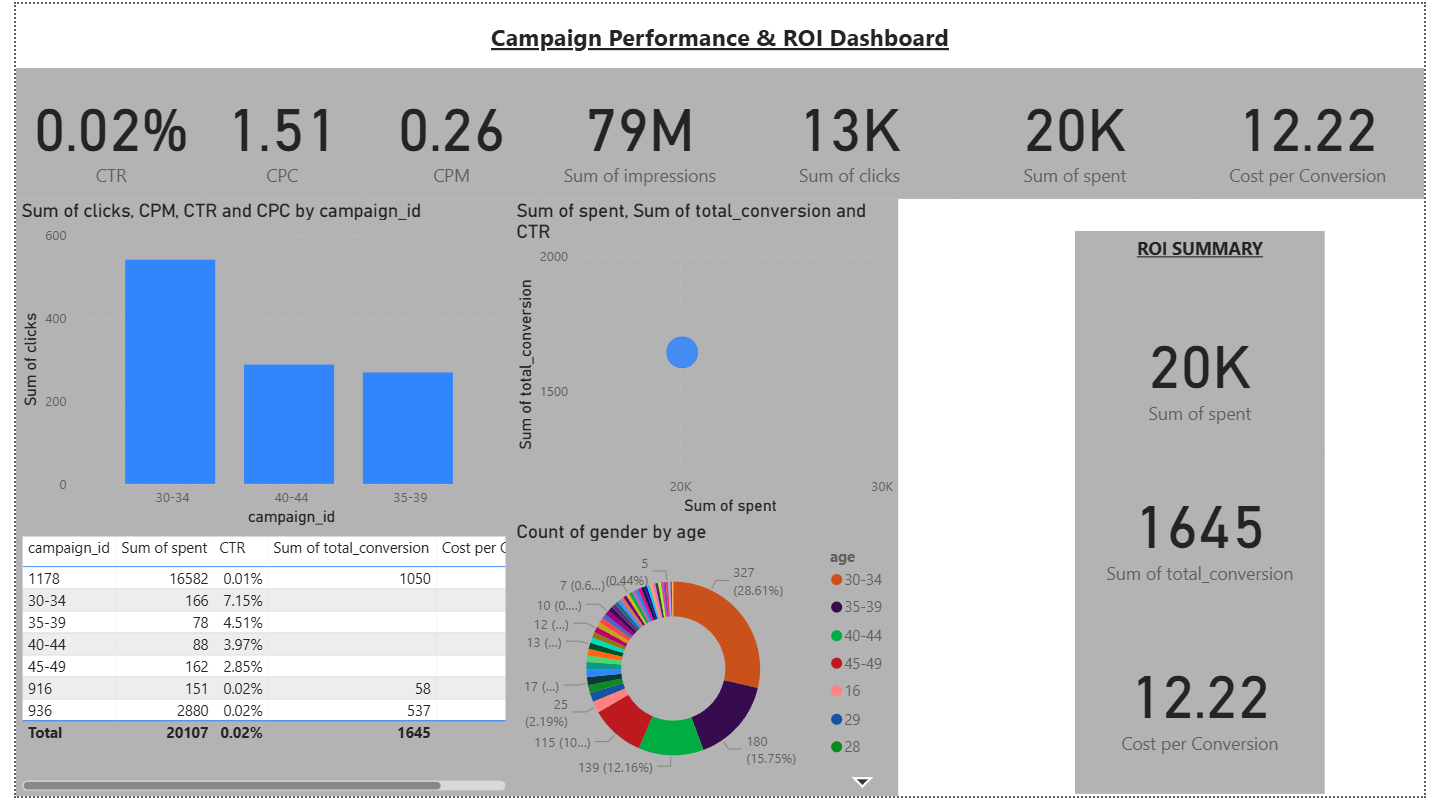

The dashboard page shown, as its layout file describes it:
{"tool":"powerbi","page":{"name":"Page 1","canvas":[1280,720],"ordinal":0},"visuals":[{"type":"card","fields":{"Values":["data.CPC"]},"box":[165,58,153,119],"z":0},{"type":"card","fields":{"Values":["data.CPM"]},"box":[311,58,170,119],"z":1000},{"type":"card","fields":{"Values":["data.CTR"]},"box":[0,58,173,119],"z":2000},{"type":"card","fields":{"Values":["Sum(data.impressions)"]},"box":[475,58,183,119],"z":3000},{"type":"card","fields":{"Values":["Sum(data.clicks)"]},"box":[658,58,199,119],"z":4000},{"type":"card","fields":{"Values":["Sum(data.spent)"]},"box":[849,58,227,119],"z":5000},{"type":"columnChart","fields":{"Category":["data.campaign_id"],"Y":["Sum(data.clicks)"]},"box":[0,177,450,302],"z":6000},{"type":"card","fields":{"Values":["data.Cost per Conversion"]},"box":[1068,58,212,119],"z":6002},{"type":"tableEx","fields":{"Values":["data.campaign_id","Sum(data.spent)","data.CTR","Sum(data.total_conversion)","data.Cost per Conversion"]},"box":[0,479,450,241],"z":6003},{"type":"scatterChart","fields":{"X":["Sum(data.spent)"],"Y":["Sum(data.total_conversion)"],"Size":["data.CTR"]},"box":[450,177,352,292],"z":6004},{"type":"donutChart","fields":{"Category":["data.age"],"Y":["CountNonNull(data.gender)"]},"box":[450,469,352,251],"z":6005},{"type":"textbox","box":[0,10,1280,48],"z":6006},{"type":"card","fields":{"Values":["data.Cost per Conversion"]},"box":[963,549,227,169],"z":6007},{"type":"card","fields":{"Values":["Sum(data.spent)"]},"box":[963,257,227,153],"z":6008},{"type":"card","fields":{"Values":["Sum(data.total_conversion)"]},"box":[963,408,227,141],"z":6009},{"type":"textbox","box":[963,206,227,51],"z":6010}]}

Visuals, with their boxes in screenshot pixels (x1, y1, x2, y2), scaled from the page's 1280x720 canvas onto the 1429x802 screenshot:
card - data.CPC: <box>184,65,355,197</box>
card - data.CPM: <box>347,65,537,197</box>
card - data.CTR: <box>0,65,193,197</box>
card - Sum(data.impressions): <box>530,65,735,197</box>
card - Sum(data.clicks): <box>735,65,957,197</box>
card - Sum(data.spent): <box>948,65,1201,197</box>
columnChart - data.campaign_id x Sum(data.clicks): <box>0,197,502,534</box>
card - data.Cost per Conversion: <box>1192,65,1428,197</box>
tableEx - data.campaign_id x Sum(data.spent): <box>0,534,502,801</box>
scatterChart - Sum(data.spent) x Sum(data.total_conversion): <box>502,197,895,522</box>
donutChart - data.age x CountNonNull(data.gender): <box>502,522,895,801</box>
textbox: <box>0,11,1428,65</box>
card - data.Cost per Conversion: <box>1075,612,1329,800</box>
card - Sum(data.spent): <box>1075,286,1329,457</box>
card - Sum(data.total_conversion): <box>1075,454,1329,612</box>
textbox: <box>1075,229,1329,286</box>
